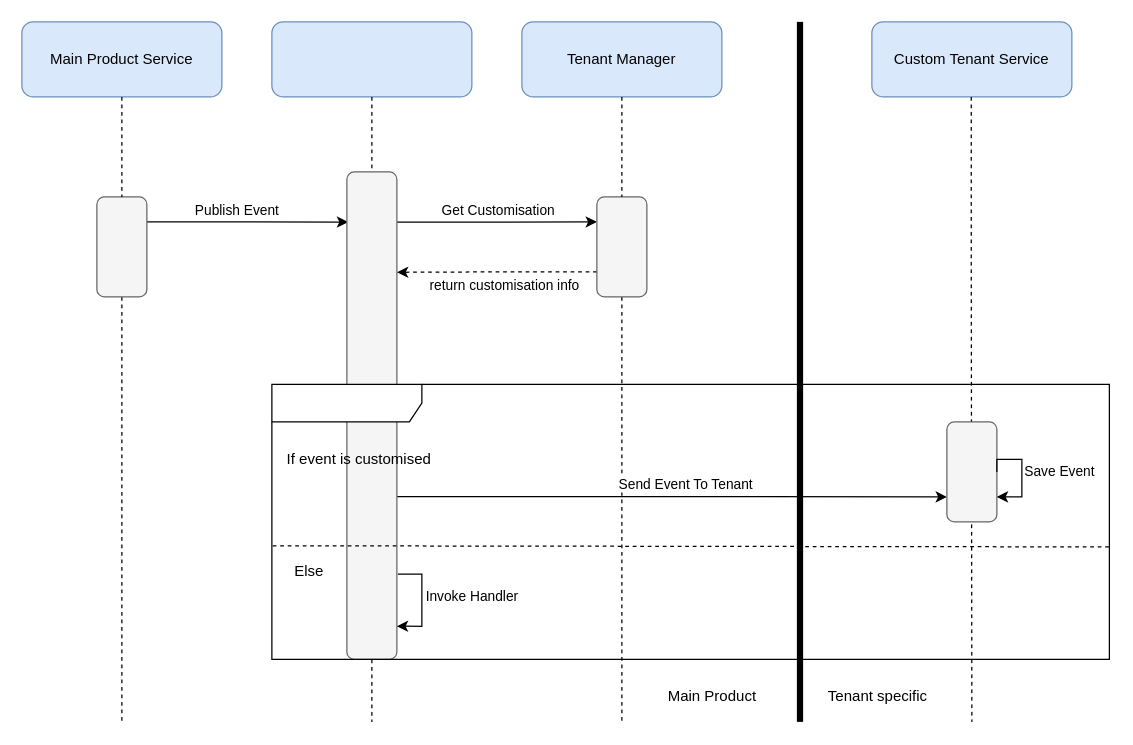
This 1133x745 diagram has some shape labels left out. Here are the shapes that lost their labels. From the top down, the centre of each, then its label:
At point (371, 59): "Multi EventBus".
At point (690, 521): "Alternative".
